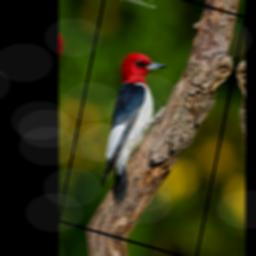Woodpecker: (89, 49, 178, 225)
